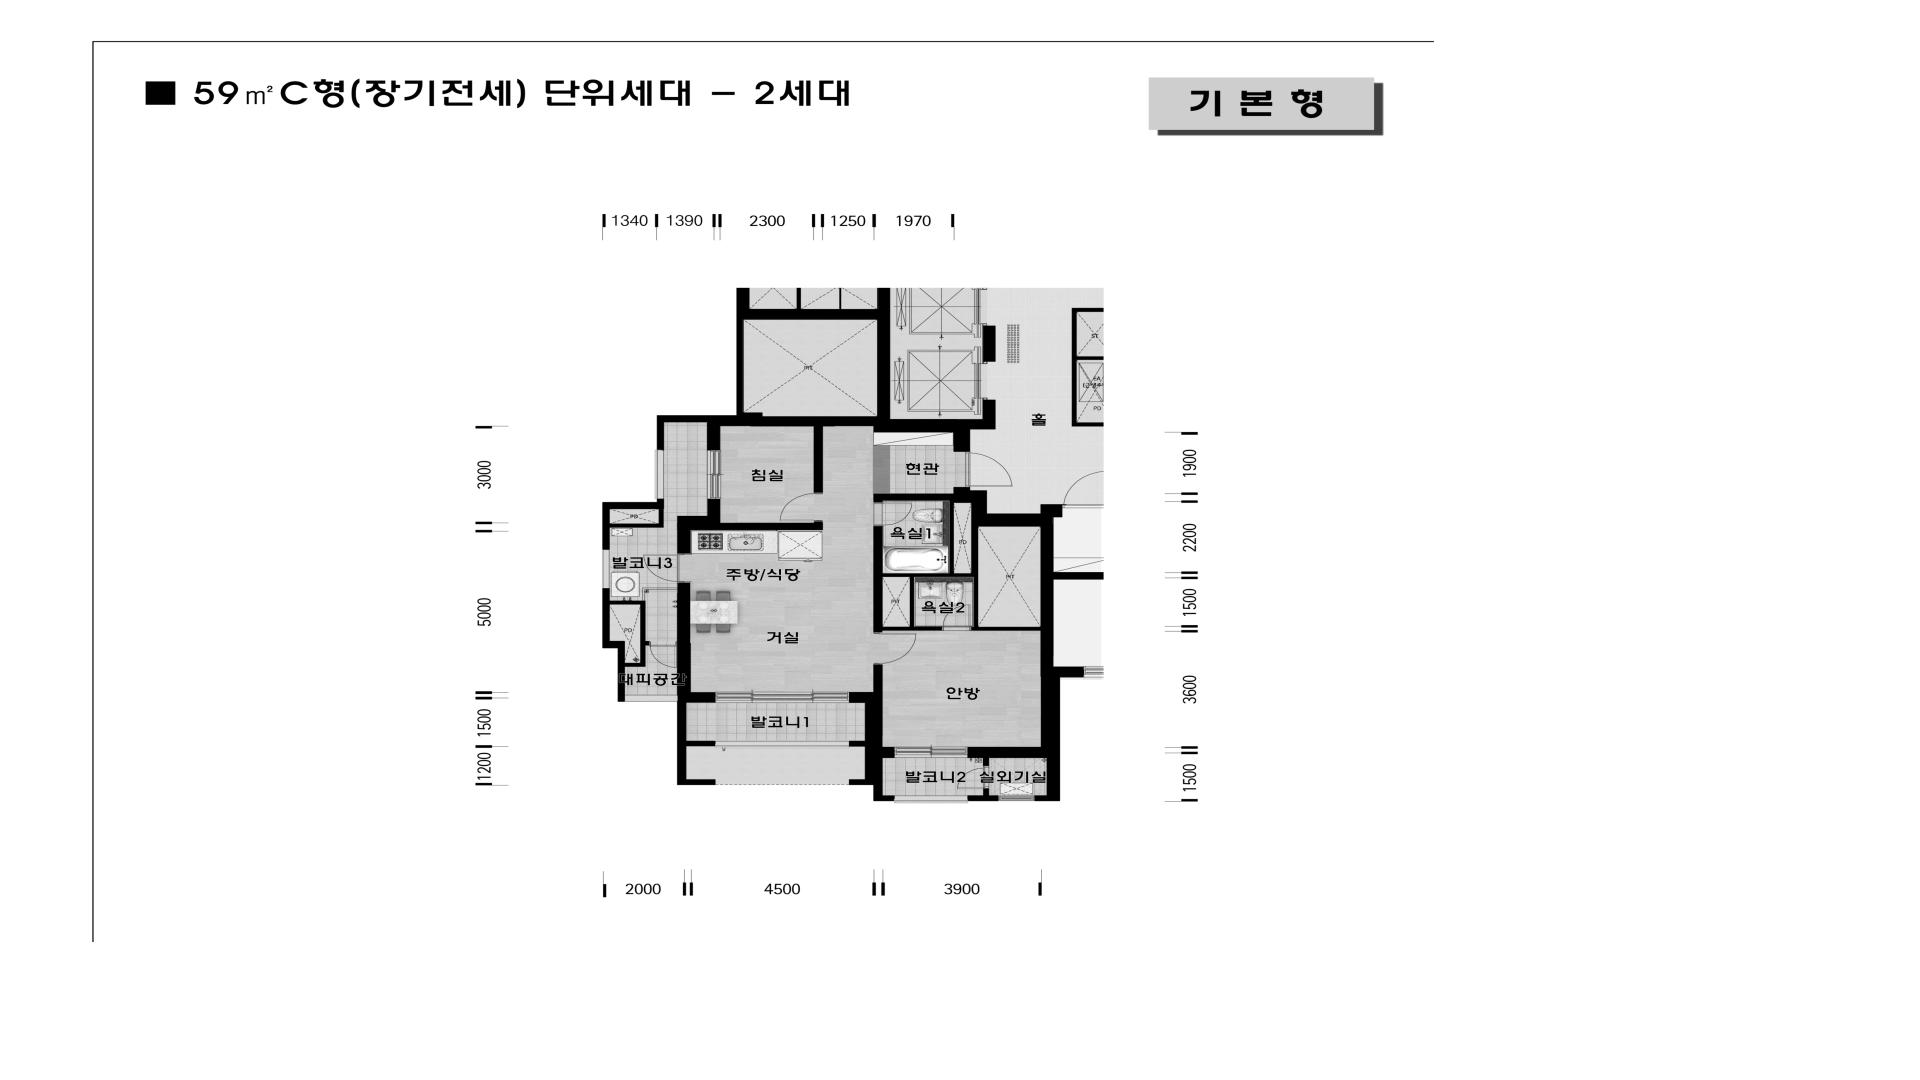door: (965, 452, 1014, 487), (873, 633, 916, 665), (779, 493, 823, 522), (644, 554, 678, 583), (873, 501, 913, 526), (942, 604, 975, 632), (956, 766, 989, 789), (649, 641, 676, 667)
wall: (873, 400, 996, 452), (953, 487, 1063, 527), (676, 703, 716, 786), (1040, 678, 1060, 795), (1040, 527, 1054, 666), (744, 413, 877, 426), (877, 287, 890, 419), (676, 583, 691, 692), (968, 746, 1040, 766), (749, 309, 877, 319), (865, 703, 882, 779), (849, 779, 894, 802), (873, 526, 882, 633), (609, 641, 625, 702), (691, 498, 721, 530), (657, 415, 744, 426), (720, 522, 823, 530), (736, 319, 744, 415), (873, 493, 953, 501), (1071, 307, 1076, 426), (814, 426, 823, 493), (640, 600, 649, 667), (603, 500, 665, 509), (676, 516, 691, 554), (1040, 666, 1084, 678), (982, 326, 996, 361), (736, 287, 749, 319), (676, 692, 716, 703), (707, 422, 721, 450), (603, 588, 609, 649), (1054, 572, 1104, 580), (882, 574, 978, 578), (971, 527, 978, 574), (873, 665, 882, 703), (625, 695, 676, 702), (978, 626, 1040, 632), (882, 626, 942, 632), (973, 576, 978, 632), (949, 501, 953, 574), (603, 509, 609, 550), (849, 692, 873, 703), (968, 795, 998, 802), (910, 578, 914, 626), (609, 524, 658, 527), (657, 422, 663, 450), (1034, 795, 1060, 802), (609, 600, 640, 605), (687, 741, 716, 746), (1076, 307, 1104, 313), (882, 746, 894, 758), (658, 509, 665, 527), (796, 287, 802, 309), (1076, 422, 1104, 426), (1076, 356, 1104, 360), (849, 741, 865, 748), (625, 663, 640, 667), (839, 287, 841, 309), (982, 789, 989, 795)
window: (716, 692, 849, 703), (715, 741, 849, 749), (894, 746, 968, 758), (707, 450, 721, 498), (894, 795, 968, 803), (654, 450, 665, 500), (603, 550, 609, 588), (998, 795, 1034, 802)
